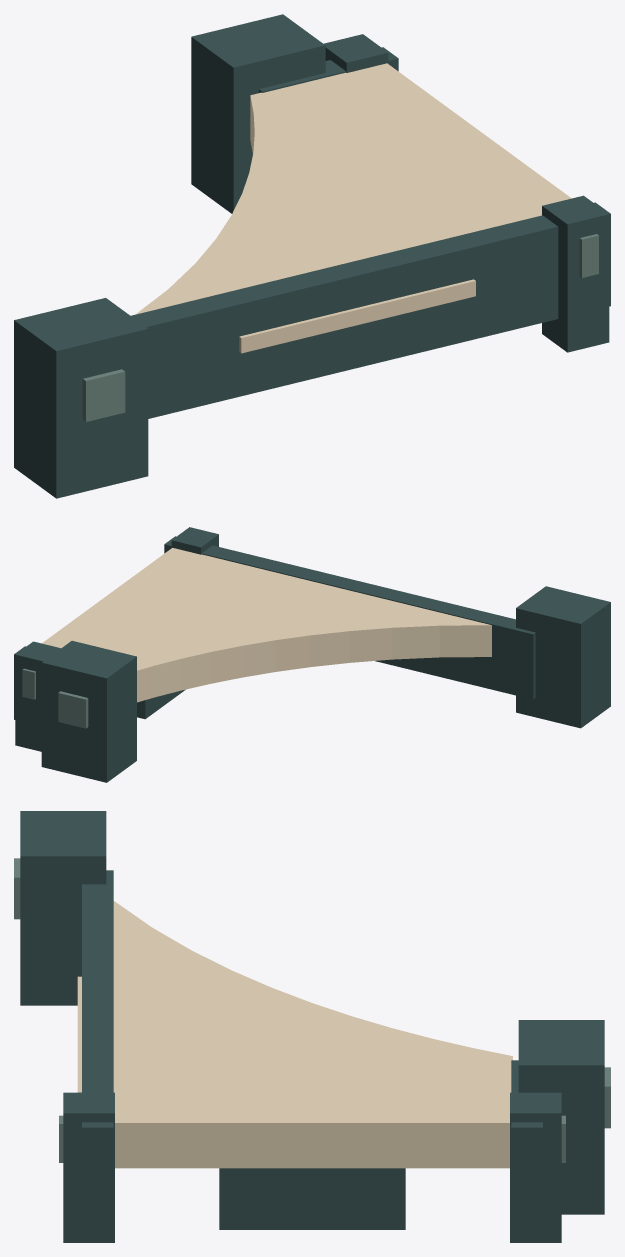
The model's file is Pier_Angled_40.glb.
3 views of the same model, one above another, from view 1: azimuth 30°, elevation 25°; view 2: azimuth 150°, elevation 25°; view 3: azimuth 270°, elevation 25° (orthographic). The views are drawn at different scales.
Parts seen in each view (by area): view 1: Pier_Angled_40; view 2: Pier_Angled_40; view 3: Pier_Angled_40.
Boxes of the visible parts, x1,y1,x2,y2 form: Pier_Angled_40: (14, 14, 610, 498); Pier_Angled_40: (14, 527, 610, 782); Pier_Angled_40: (14, 811, 610, 1242).
Size of the model in its own units: 4.77 by 1.15 by 4.17.
